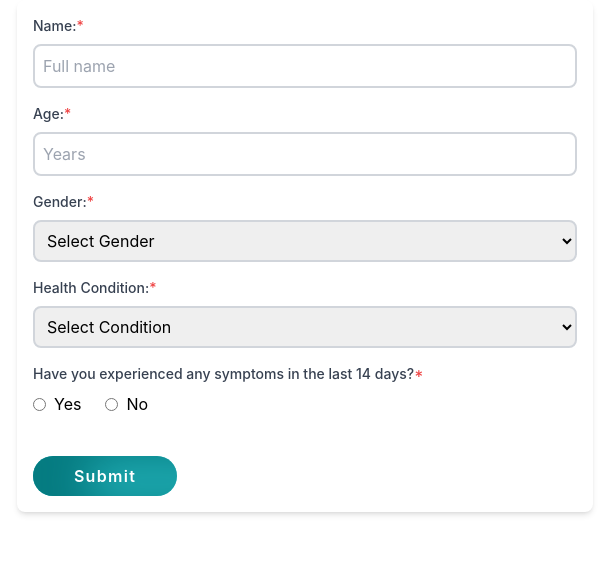
Test: Questionnaire Form › shows an error message when the form submission fails
Type "John Doe" into the field labelled "Name:*".
click(305, 66); type("John Doe")  # box [33, 44, 577, 88]
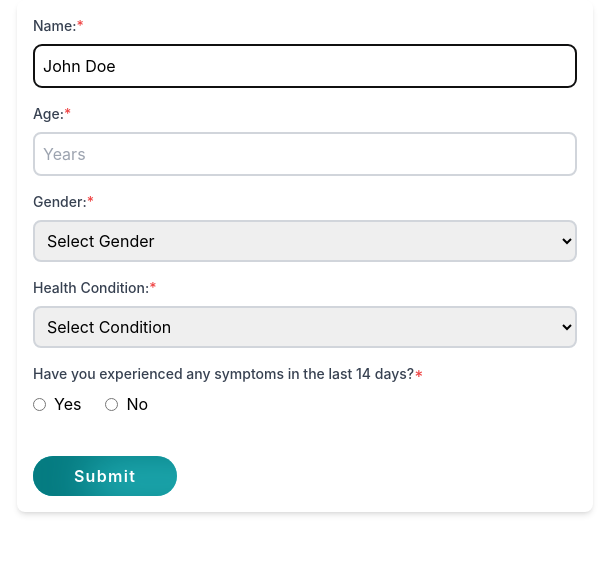
Type "30" into the number field labelled "Age:*".
click(305, 154); type("30")  # box [33, 132, 577, 176]
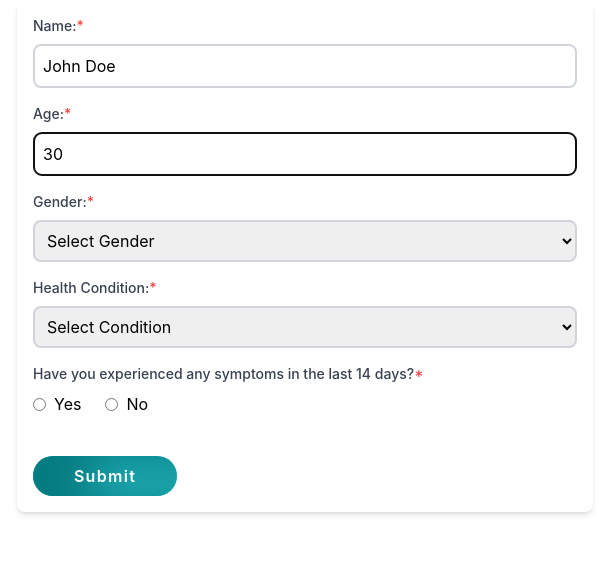
Select "Male" in the dropdown labelled "Gender:*" at (305, 241), box [33, 220, 577, 262]
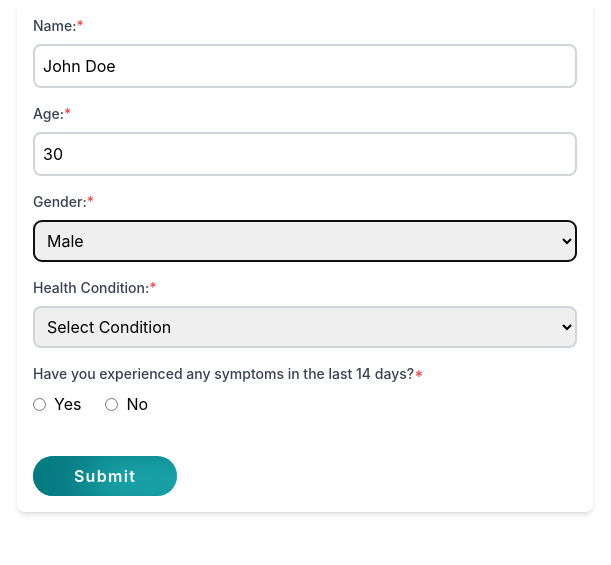
Select "Healthy" in the dropdown labelled "Health Condition:*" at (305, 327), box [33, 306, 577, 348]
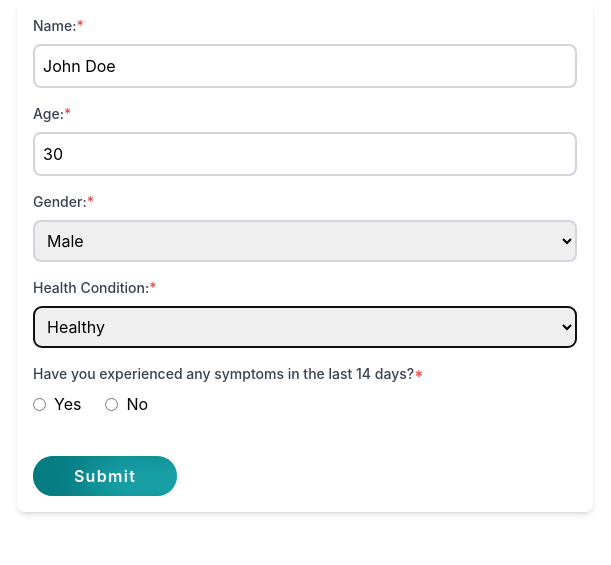
Click the radio button labelled "No".
click(112, 404)  # box [105, 398, 118, 410]
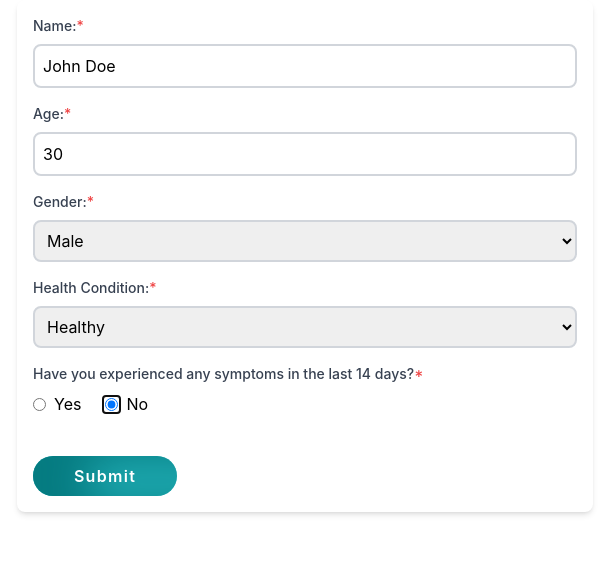
Click the button "Submit".
click(105, 476)  # box [33, 456, 177, 496]
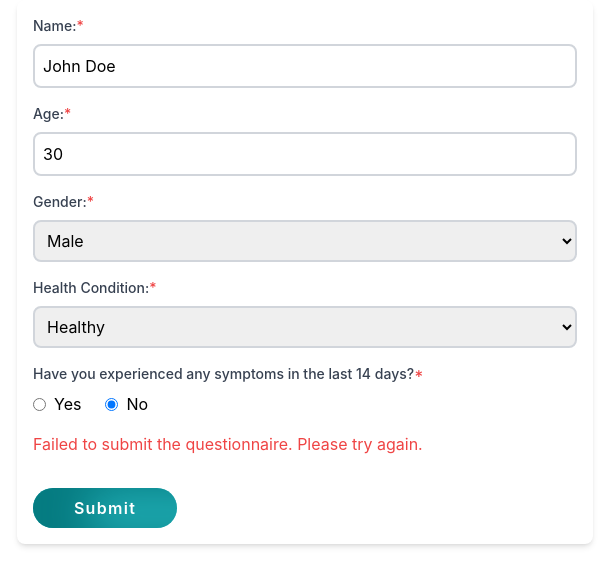
Result: the text "Failed to submit the questionnaire. Please try again." is shown at [33, 434, 423, 454]
